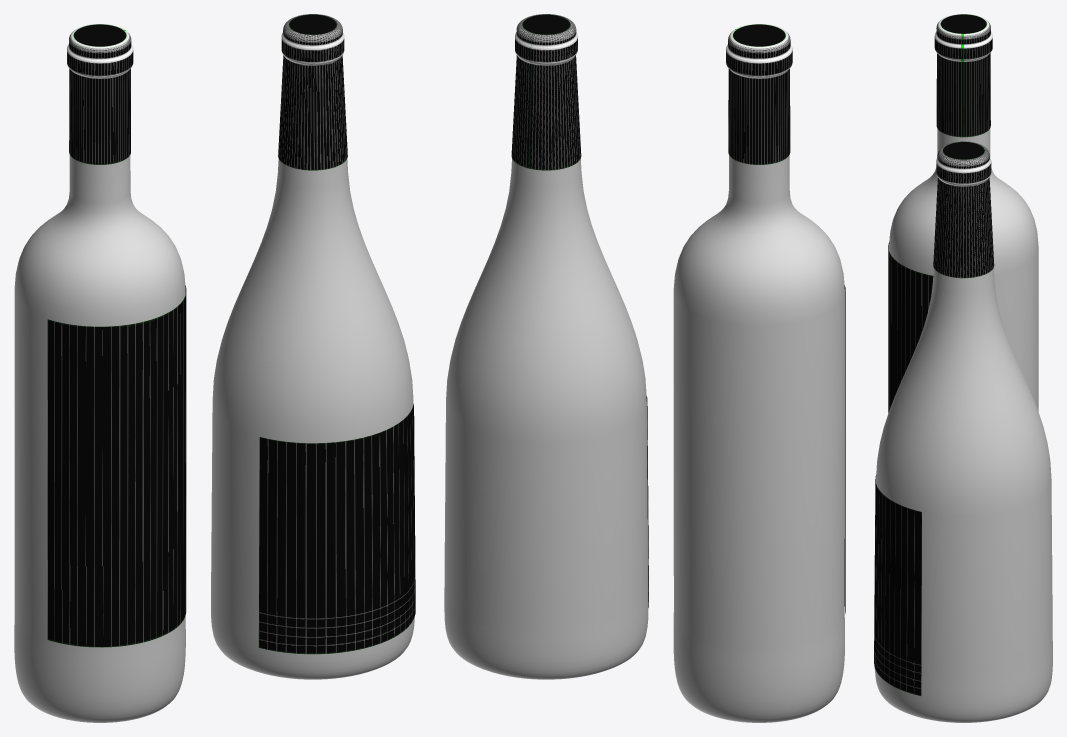
File: Foyer_champagnebottles_01.glb
The picture shows the model from 3 angles, left to right: view 1: azimuth 30°, elevation 25°; view 2: azimuth 150°, elevation 25°; view 3: azimuth 270°, elevation 25°; orthographic projection. The views are drawn at different scales.
Parts seen in each view (by area): view 1: Bottle_White, Label_Red_Label Red_0, Bottle_Red_Glass_0, Label_White, Cap_White, Cap_Red_Cap Red_0; view 2: Bottle_Red_Glass_0, Bottle_White, Cap_White, Cap_Red_Cap Red_0; view 3: Bottle_White, Bottle_Red_Glass_0, Label_White, Cap_White, Cap_Red_Cap Red_0, Label_Red_Label Red_0.
Boxes of the visible parts, bbox=[...] form: Bottle_White: bbox=[211, 159, 414, 679]; Label_Red_Label Red_0: bbox=[47, 285, 186, 647]; Bottle_Red_Glass_0: bbox=[14, 155, 185, 722]; Label_White: bbox=[258, 403, 415, 654]; Cap_White: bbox=[278, 14, 347, 170]; Cap_Red_Cap Red_0: bbox=[67, 24, 133, 164]; Bottle_Red_Glass_0: bbox=[673, 155, 844, 722]; Bottle_White: bbox=[444, 159, 648, 679]; Cap_White: bbox=[511, 14, 581, 170]; Cap_Red_Cap Red_0: bbox=[726, 24, 792, 164]; Bottle_White: bbox=[874, 268, 1052, 722]; Bottle_Red_Glass_0: bbox=[889, 128, 1038, 411]; Label_White: bbox=[874, 475, 921, 695]; Cap_White: bbox=[933, 141, 994, 278]; Cap_Red_Cap Red_0: bbox=[934, 14, 992, 137]; Label_Red_Label Red_0: bbox=[888, 242, 933, 412].
Size of what is drawn, in the model's own units: 7.02 by 11.73 by 3.32.
7 materials, 4 textured.
